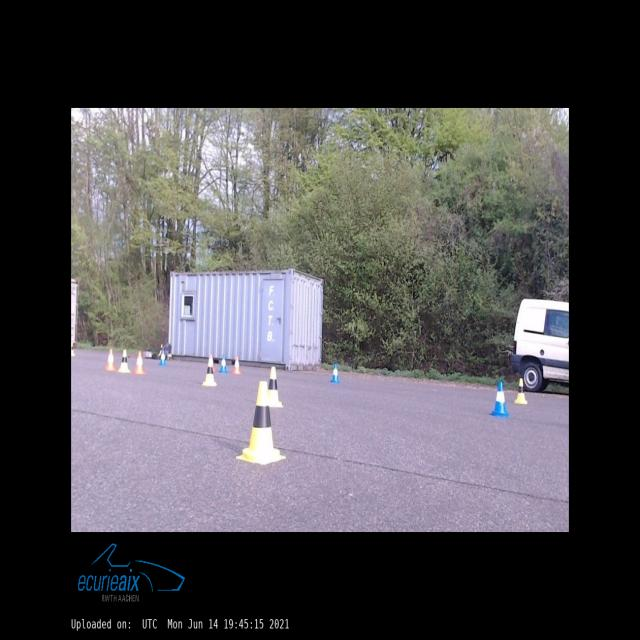blue_cone: (490, 381, 509, 416), (331, 363, 340, 383), (220, 355, 228, 372), (159, 349, 166, 365)
orange_cone: (132, 350, 146, 375), (105, 348, 116, 371), (233, 356, 241, 375), (208, 354, 215, 372)
yellow_cone: (236, 382, 286, 464), (268, 367, 283, 407), (202, 358, 216, 386), (515, 379, 527, 404), (118, 350, 130, 373), (71, 341, 75, 355), (159, 344, 163, 355)
